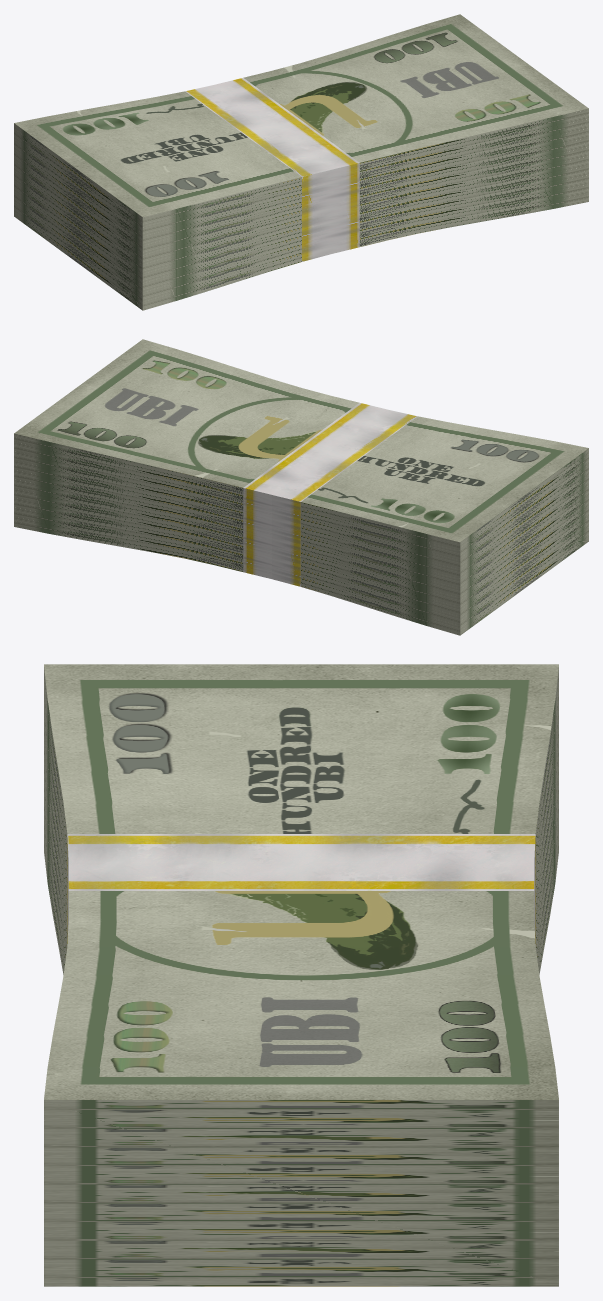
File: Money.fbx
The picture shows the model from 3 angles, top to bottom: view 1: azimuth 30°, elevation 25°; view 2: azimuth 150°, elevation 25°; view 3: azimuth 270°, elevation 25°; orthographic projection. The views are drawn at different scales.
Visible parts, largest first — view 1: Money; view 2: Money; view 3: Money.
Boxes of the visible parts, x1,y1,x2,y2 form: Money: (14, 14, 588, 310); Money: (14, 339, 588, 635); Money: (44, 664, 558, 1286).
Size of the model in its own units: 1.99 by 0.3977 by 0.9944.
